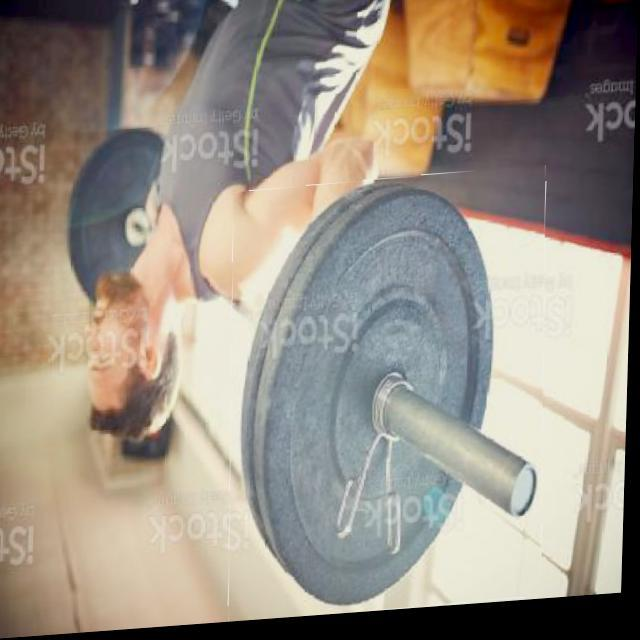barbell: (228, 176, 553, 627)
